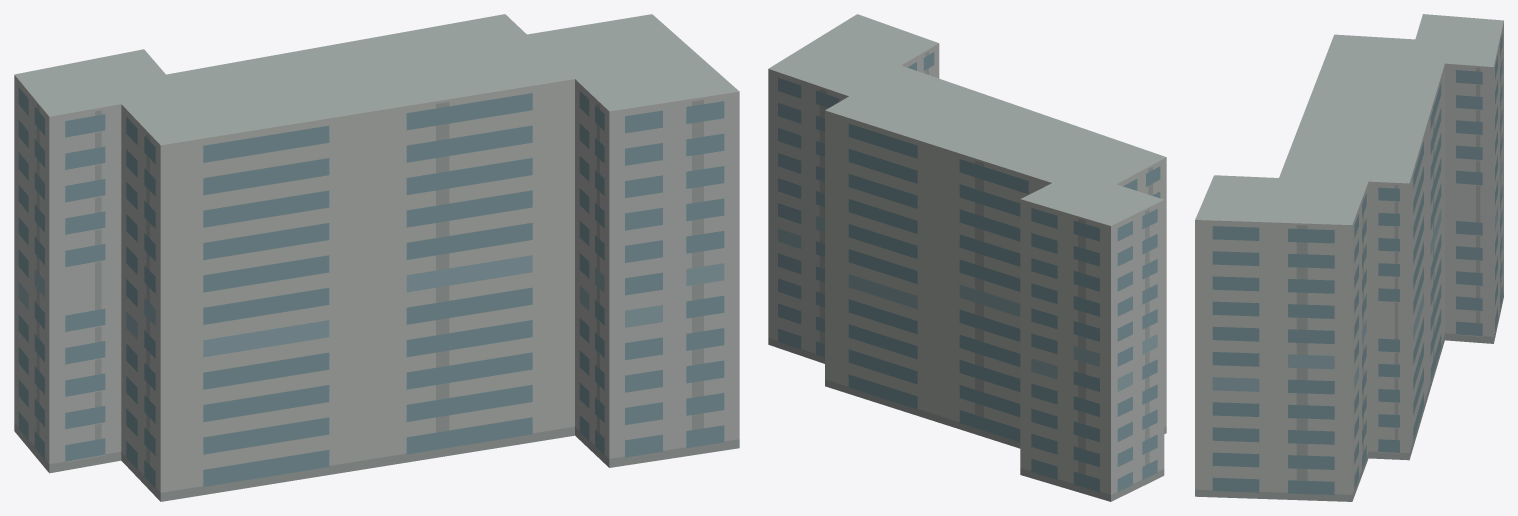
Rendered from residential-b83ea44b-816c-431d-bf9b-9a04d6cc9d92.glb.
3 renders of one model, left to right at view 1: azimuth 30°, elevation 25°; view 2: azimuth 150°, elevation 25°; view 3: azimuth 270°, elevation 25°, orthographic. The views are drawn at different scales.
Parts seen in each view (by area): view 1: residential-b83ea44b-816c-431d-bf9b-9a04d6cc9d92.tmp; view 2: residential-b83ea44b-816c-431d-bf9b-9a04d6cc9d92.tmp; view 3: residential-b83ea44b-816c-431d-bf9b-9a04d6cc9d92.tmp.
Boxes of the visible parts, <box> form: residential-b83ea44b-816c-431d-bf9b-9a04d6cc9d92.tmp: <box>14,14,739,501</box>; residential-b83ea44b-816c-431d-bf9b-9a04d6cc9d92.tmp: <box>768,14,1166,501</box>; residential-b83ea44b-816c-431d-bf9b-9a04d6cc9d92.tmp: <box>1195,14,1503,501</box>.
Size of the model in its own units: 54 by 33 by 33.39.
